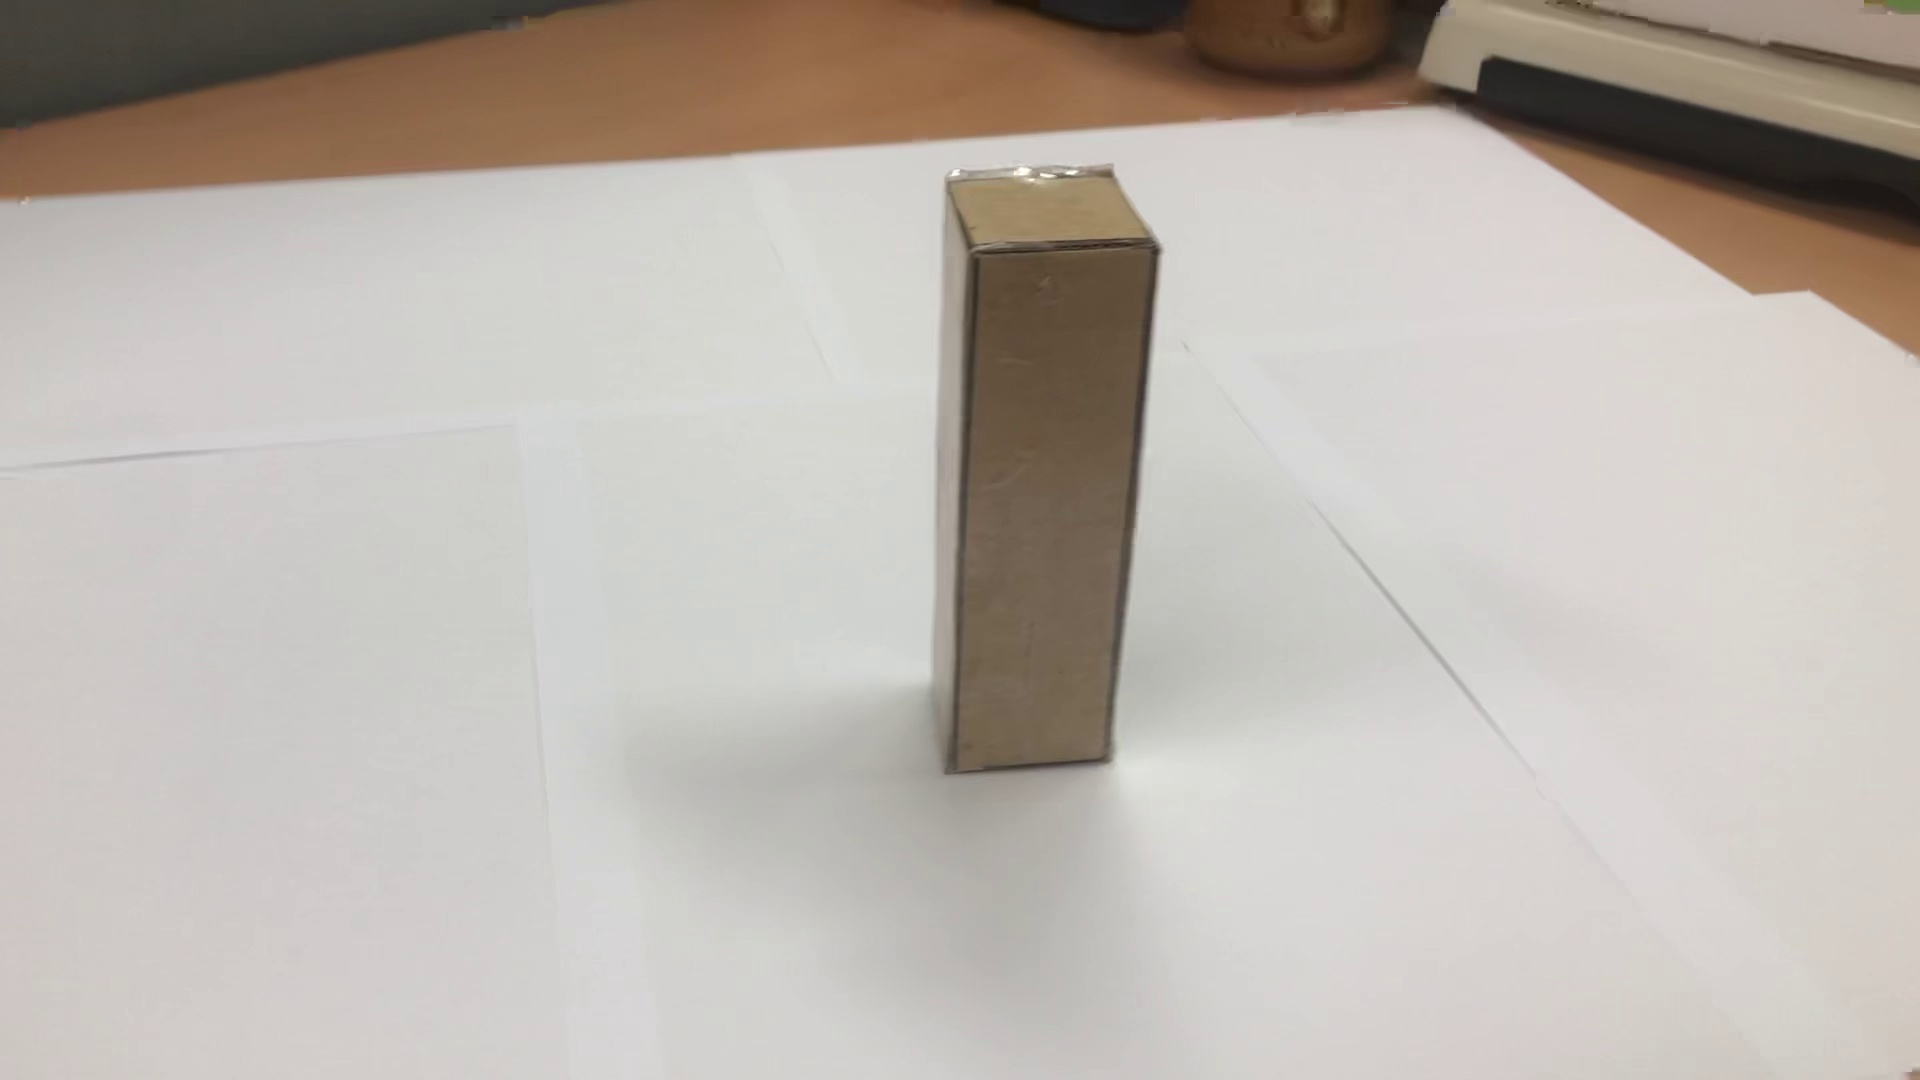box: (893, 148, 1184, 802)
